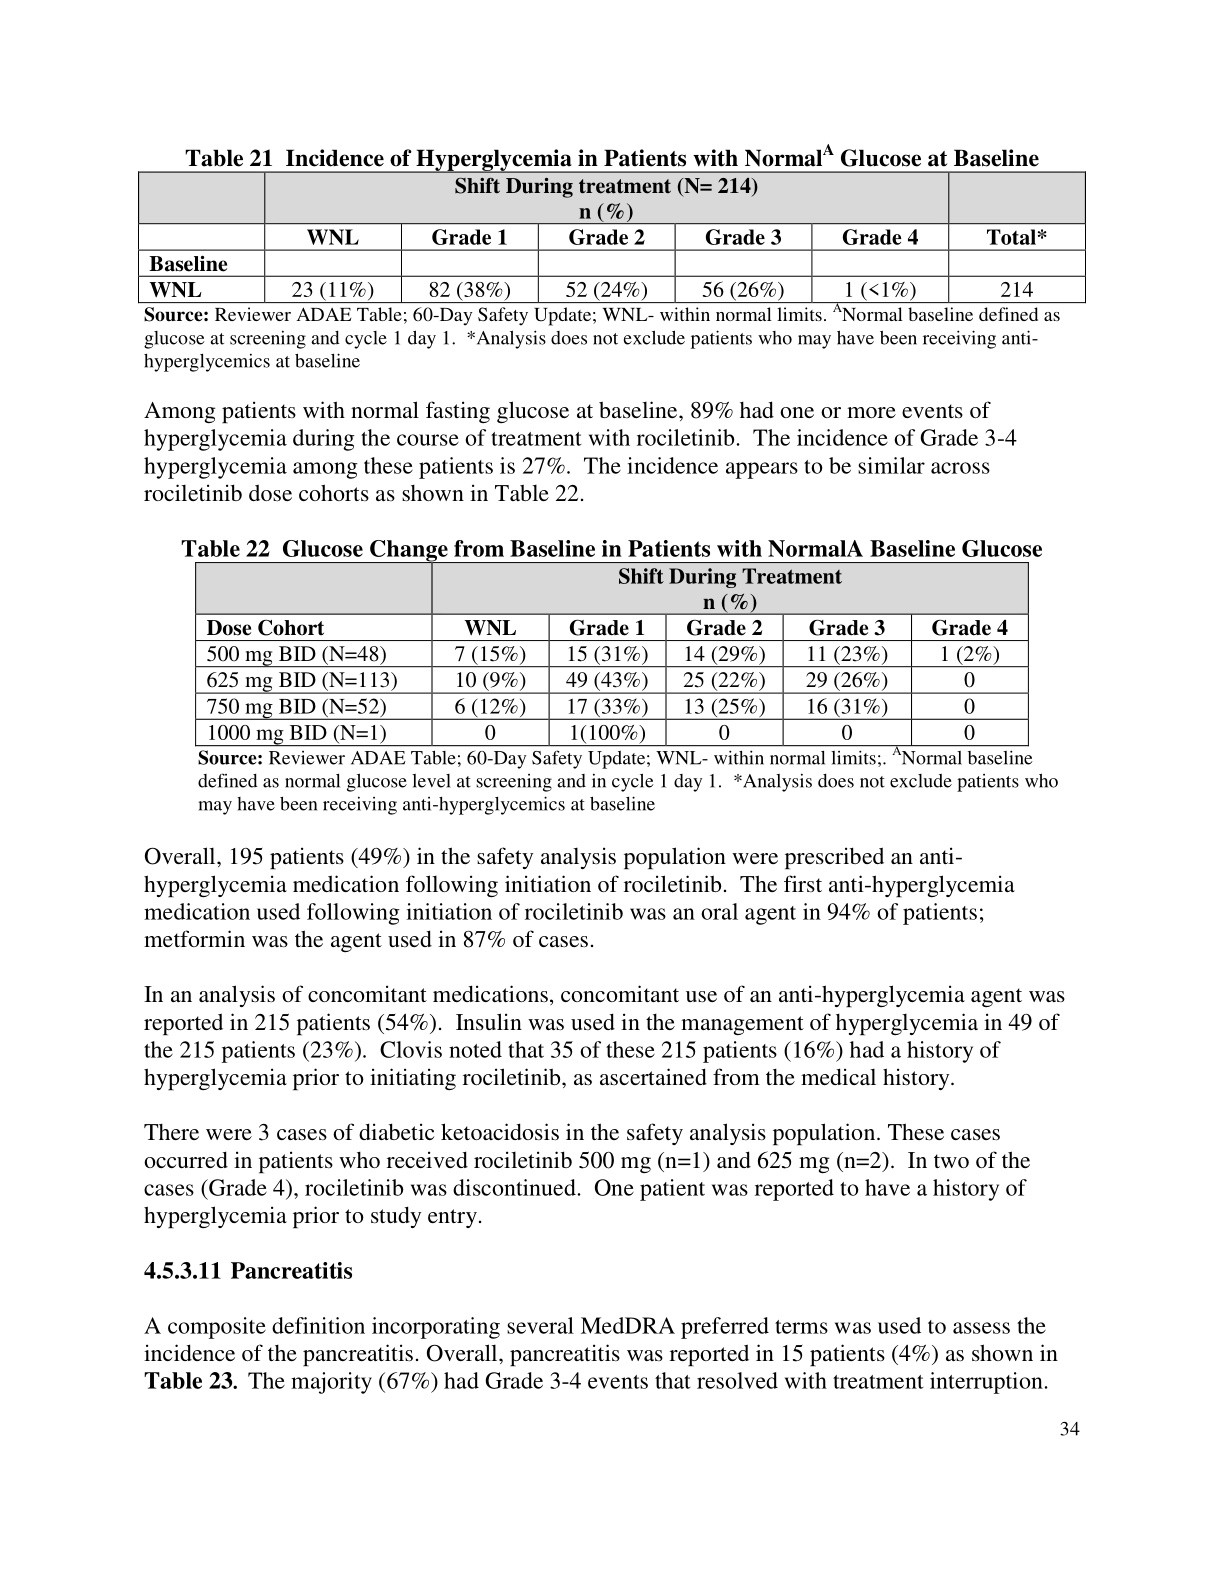merged_cells: (193, 561, 1030, 747), (138, 168, 1086, 303)
